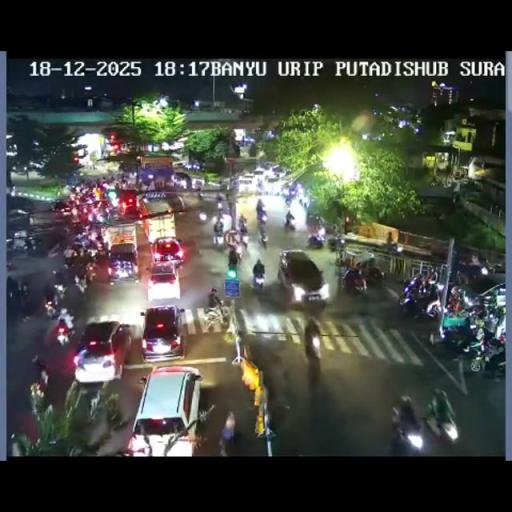Car: (128, 365, 203, 454), (72, 320, 132, 383), (277, 249, 329, 307), (139, 304, 186, 361), (146, 260, 182, 302), (107, 243, 139, 283), (150, 236, 185, 266), (117, 188, 143, 218), (237, 173, 254, 193), (52, 201, 71, 218), (260, 161, 283, 174), (265, 172, 280, 190), (252, 168, 265, 180)
Motorcycle: (8, 268, 76, 329), (213, 190, 278, 253), (423, 389, 458, 443), (434, 316, 478, 358), (400, 277, 442, 318), (392, 404, 425, 451), (303, 320, 322, 378), (475, 341, 506, 376), (481, 294, 505, 332), (202, 300, 230, 330), (341, 266, 367, 296), (219, 411, 236, 454), (446, 284, 469, 312), (73, 230, 100, 252), (30, 363, 48, 395), (363, 264, 386, 289), (56, 318, 74, 346), (86, 206, 109, 224), (52, 266, 69, 290), (252, 258, 265, 289), (6, 275, 20, 303), (18, 281, 30, 310), (83, 262, 97, 285), (44, 298, 58, 320), (306, 232, 324, 249), (327, 233, 341, 251), (231, 240, 243, 261), (24, 237, 37, 255), (62, 246, 76, 262), (257, 224, 267, 246), (212, 226, 223, 246), (238, 229, 249, 247), (388, 241, 402, 255), (484, 260, 498, 274), (213, 211, 225, 227), (238, 215, 248, 232), (70, 208, 80, 225), (284, 216, 295, 230), (298, 196, 309, 210), (197, 209, 207, 223), (256, 210, 266, 223), (177, 194, 185, 210), (226, 188, 235, 202), (139, 179, 149, 191), (255, 182, 264, 195), (284, 195, 293, 207), (216, 200, 223, 214), (180, 178, 186, 190), (198, 190, 203, 200), (218, 180, 222, 189)
